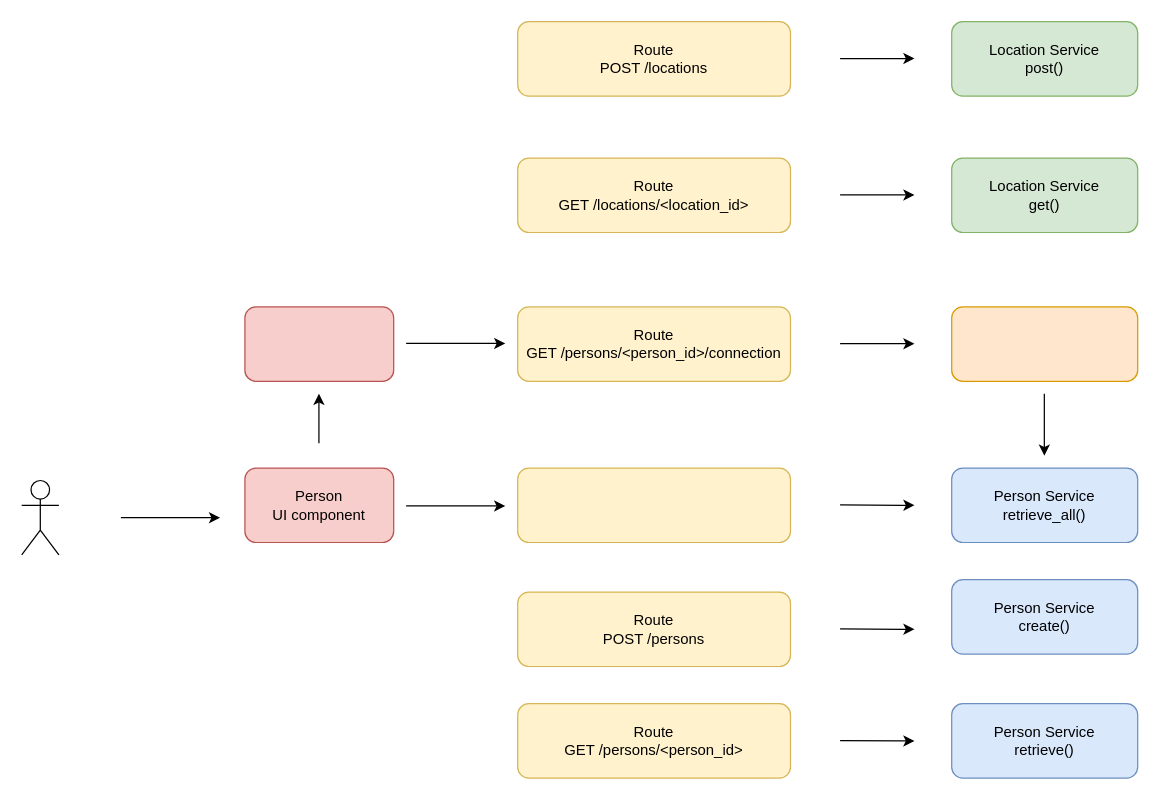
The diagram is 1159 pixels wide and 800 high, and some of its shapes have lost their labels. The shapes that lost their labels are listed below. From the top down, each one's box as (x1, y1, x2, y2) in pixels, then its label:
(244, 306, 394, 381): Connection UI component
(950, 306, 1138, 381): Connection Service find_contacts()
(20, 479, 59, 555): Actor
(516, 467, 790, 542): Route GET /persons
